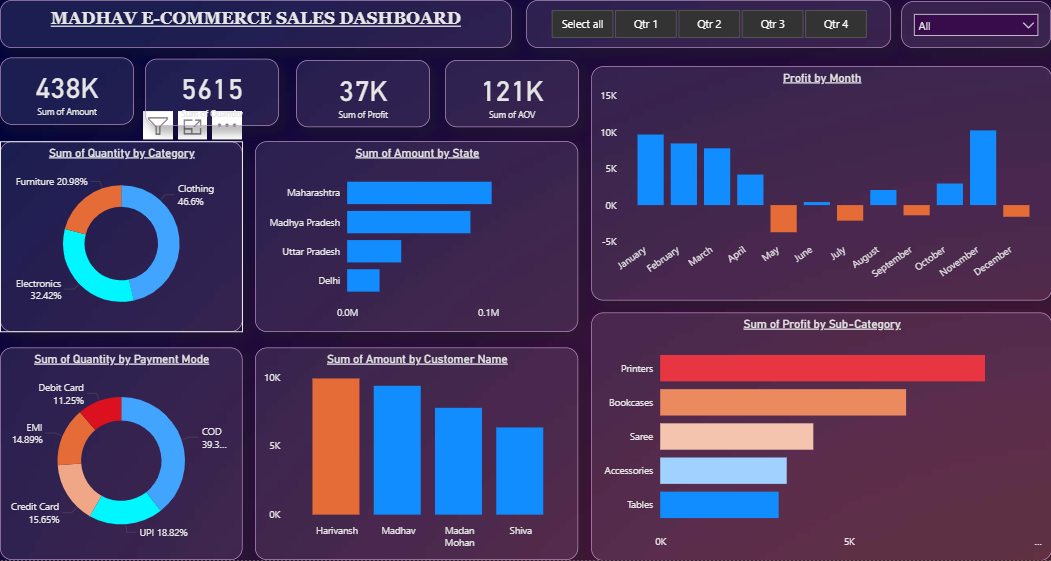

Layout of this report page (visuals, bound fields, positions):
{"tool":"powerbi","page":{"name":"Page 1","canvas":[1314,700],"ordinal":0},"visuals":[{"type":"textbox","box":[0,0,640,60],"z":0},{"type":"columnChart","title":"Profit by Month","fields":{"Category":["Orders.Order Date.Variation.Date Hierarchy.Month"],"Y":["Details.Profit"]},"box":[738.6,82.9,575.7,292.9],"z":1},{"type":"barChart","title":"Sum of Profit by Sub-Category","fields":{"Category":["Details.Sub-Category"],"Y":["Details.Profit"]},"box":[738.6,390,575.7,310],"z":2},{"type":"donutChart","title":"Sum of Quantity by Category","fields":{"Y":["Details.Quantity"],"Series":["Details.Category"]},"box":[0,177.1,302.9,238.6],"z":3},{"type":"donutChart","title":"Sum of Quantity by Payment Mode","fields":{"Y":["Details.Quantity"],"Category":["Details.PaymentMode"]},"box":[0,434.3,302.9,265.7],"z":4},{"type":"card","fields":{"Values":["Details.Amount"]},"box":[0,72.3,167.1,84.3],"z":5},{"type":"card","fields":{"Values":["Details.Quantity"]},"box":[181.4,73.7,167.1,84.3],"z":6},{"type":"card","fields":{"Values":["Details.Profit"]},"box":[370,75.1,167.1,84.3],"z":7},{"type":"card","fields":{"Values":["Details.AOV"]},"box":[555.7,75.1,167.1,84.3],"z":8},{"type":"barChart","title":"Sum of Amount by State","fields":{"Category":["Orders.State"],"Y":["Details.Amount"]},"box":[318.6,177.1,404.3,238.6],"z":9},{"type":"columnChart","title":"Sum of Amount by Customer Name","fields":{"Y":["Details.Amount"],"Category":["Orders.CustomerName"]},"box":[318.6,434.3,404.3,265.7],"z":10},{"type":"slicer","fields":{"Values":["Orders.Order Date.Variation.Date Hierarchy.Quarter"]},"box":[657.1,0,455.7,60],"z":11},{"type":"slicer","fields":{"Values":["Orders.State"]},"box":[1127.1,1.4,187.1,58.6],"z":12}]}

Visuals, with their boxes in screenshot pixels (x1, y1, x2, y2), scaled from the page's 1314x700 canvas onto the 1051x561 screenshot:
textbox: Rect(0, 0, 512, 48)
"Profit by Month" columnChart: Rect(591, 66, 1050, 301)
"Sum of Profit by Sub-Category" barChart: Rect(591, 313, 1050, 560)
"Sum of Quantity by Category" donutChart: Rect(0, 142, 242, 333)
"Sum of Quantity by Payment Mode" donutChart: Rect(0, 348, 242, 560)
card - Details.Amount: Rect(0, 58, 134, 126)
card - Details.Quantity: Rect(145, 59, 279, 127)
card - Details.Profit: Rect(296, 60, 430, 128)
card - Details.AOV: Rect(444, 60, 578, 128)
"Sum of Amount by State" barChart: Rect(255, 142, 578, 333)
"Sum of Amount by Customer Name" columnChart: Rect(255, 348, 578, 560)
slicer - Orders.Order Date.Variation.Date Hierarchy.Quarter: Rect(526, 0, 890, 48)
slicer - Orders.State: Rect(902, 1, 1050, 48)
